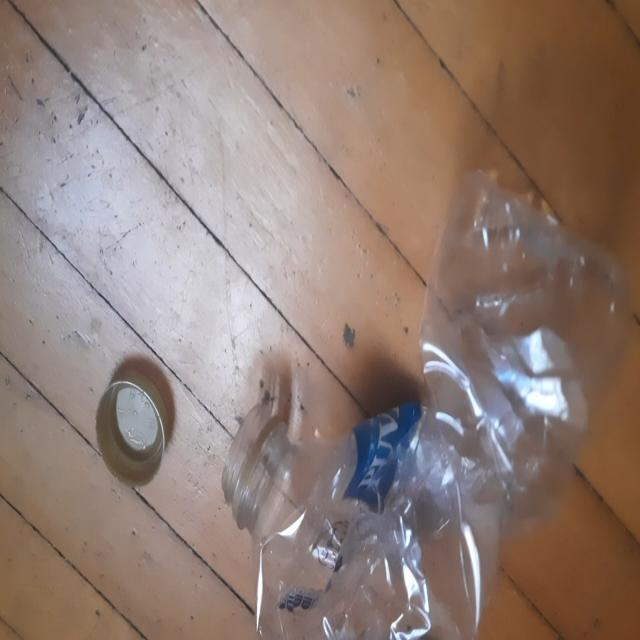Plastic: (223, 167, 635, 637)
